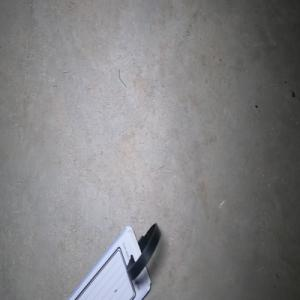LuggageTag: (65, 221, 161, 300)
